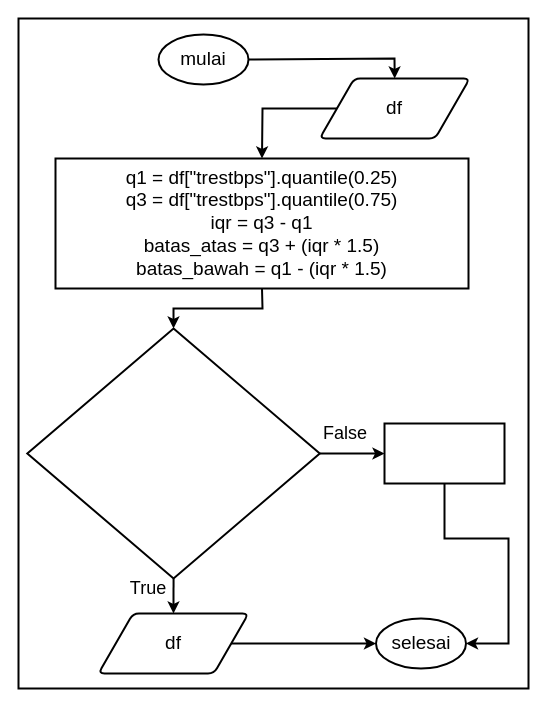
This 546x706 diagram has some shape labels left out. The centre of each missing label's shape, as x and y in pixels:
hapus data: point 444,453
if (df["trestbps"] >= batas_bawah) & (df["trestbps"] <= batas_atas): point 173,453
